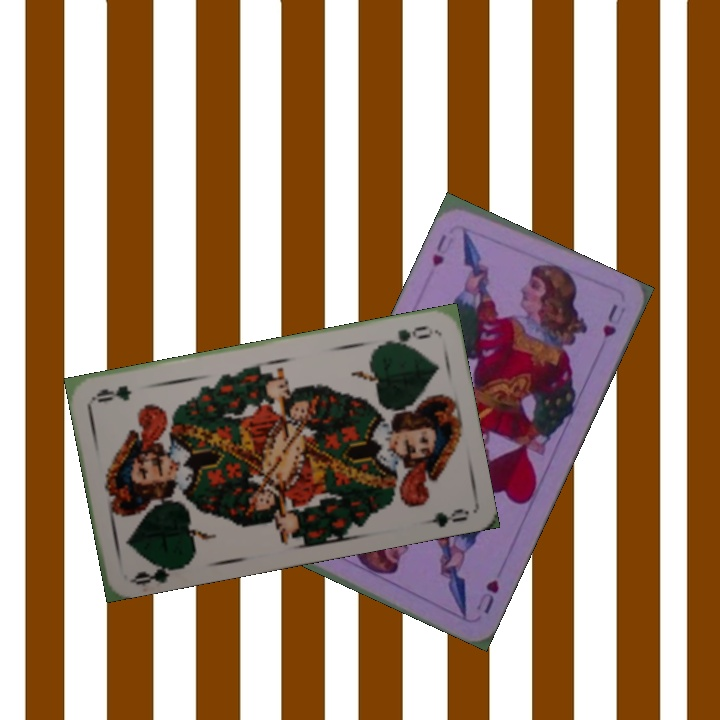GO: (128, 558, 186, 588), (378, 321, 436, 349)
HU: (472, 575, 502, 616), (427, 230, 450, 269)
